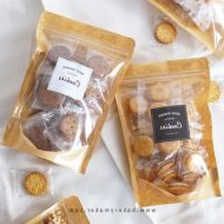snack: (0, 5, 140, 179), (102, 49, 223, 213), (5, 160, 58, 203)
